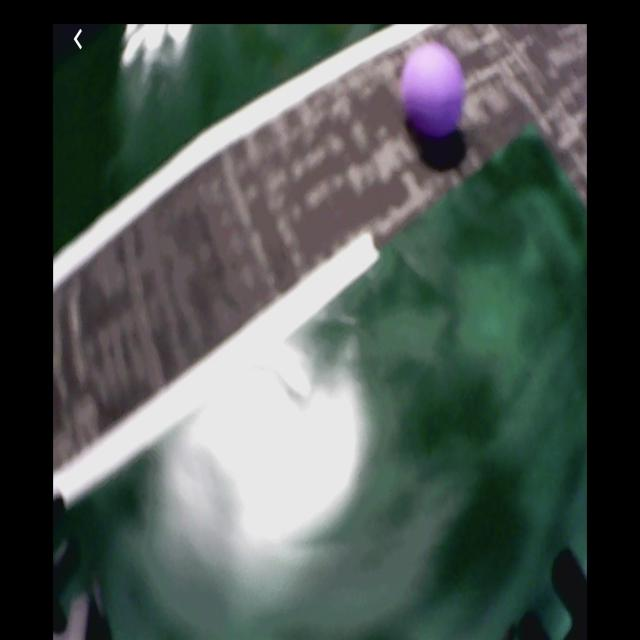ball: (402, 43, 464, 139)
